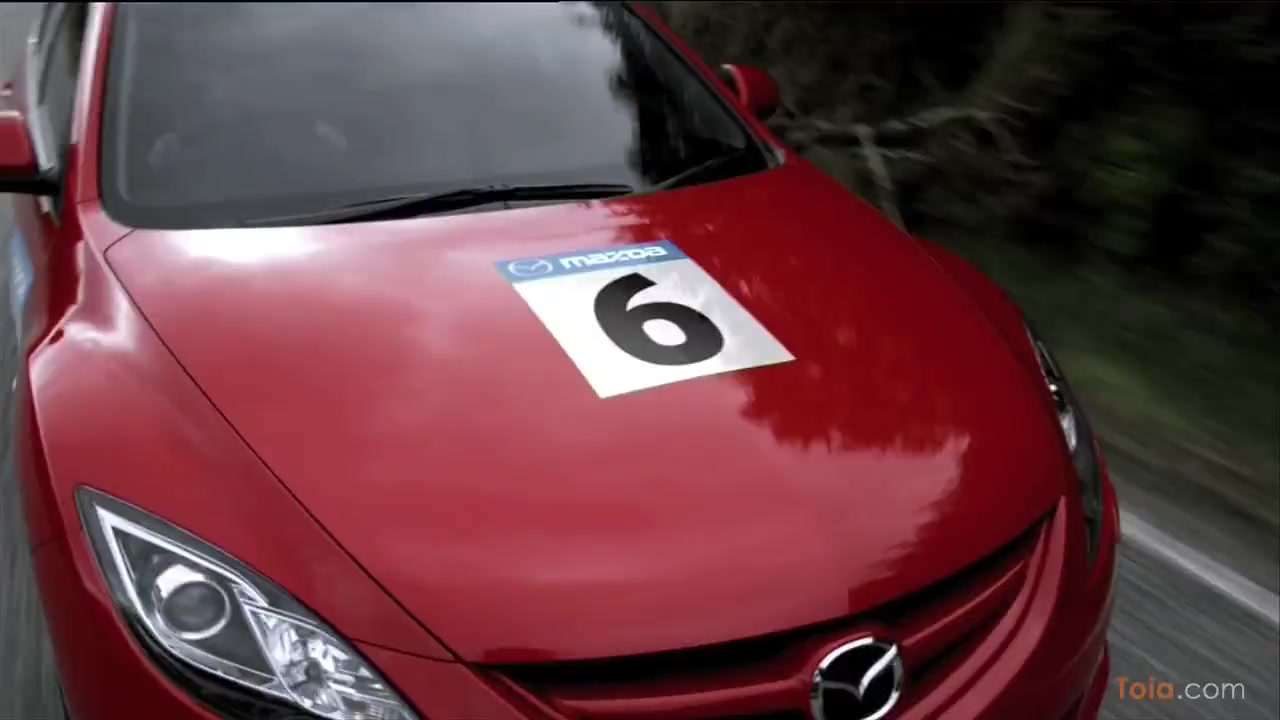car: (1, 3, 1123, 720)
